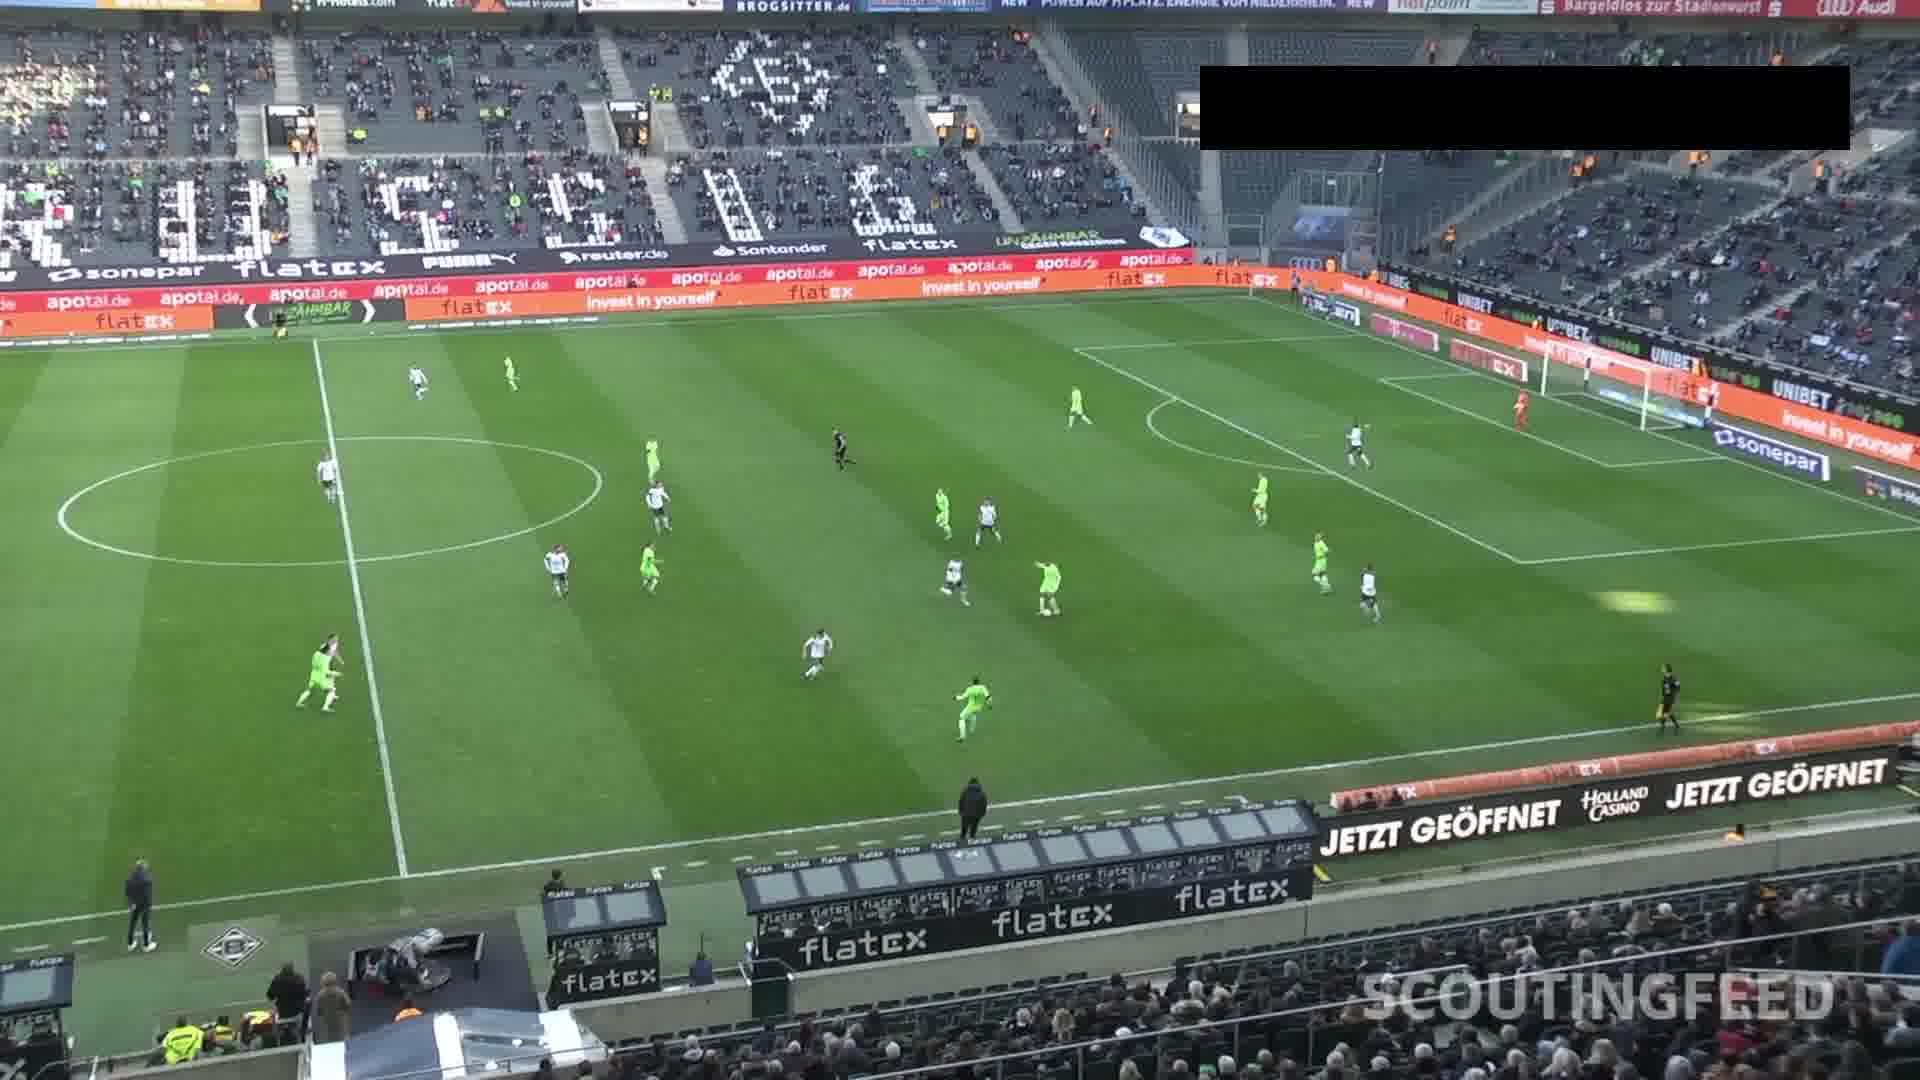football: (1043, 609, 1054, 616)
